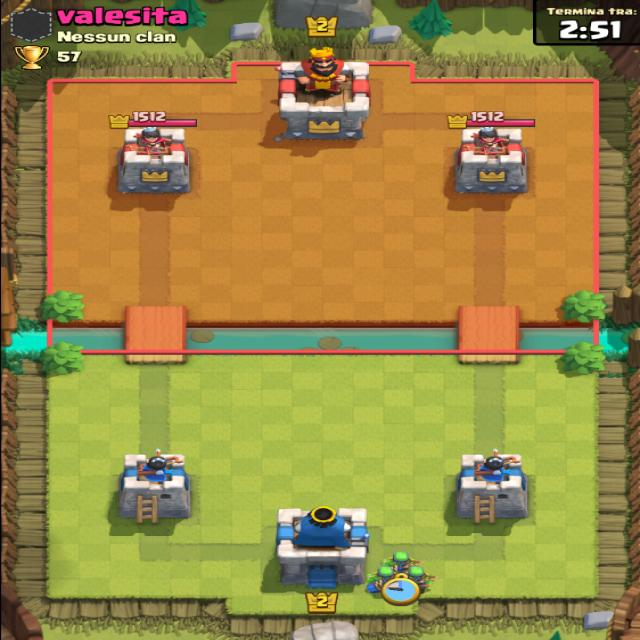Player-SpearGoblin: (395, 561, 437, 600), (369, 566, 405, 598), (385, 551, 419, 578)
